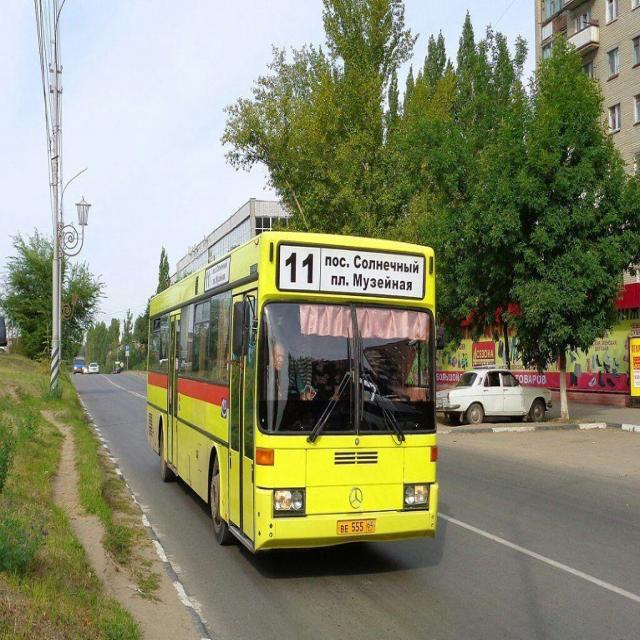number-of-bus: (283, 250, 317, 285)
